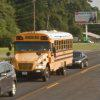Bus: (10, 28, 76, 70)
